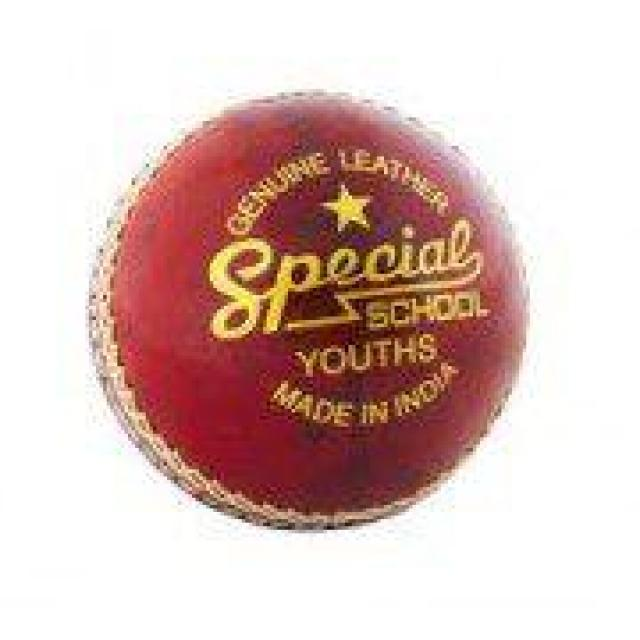ball: (85, 92, 537, 534)
